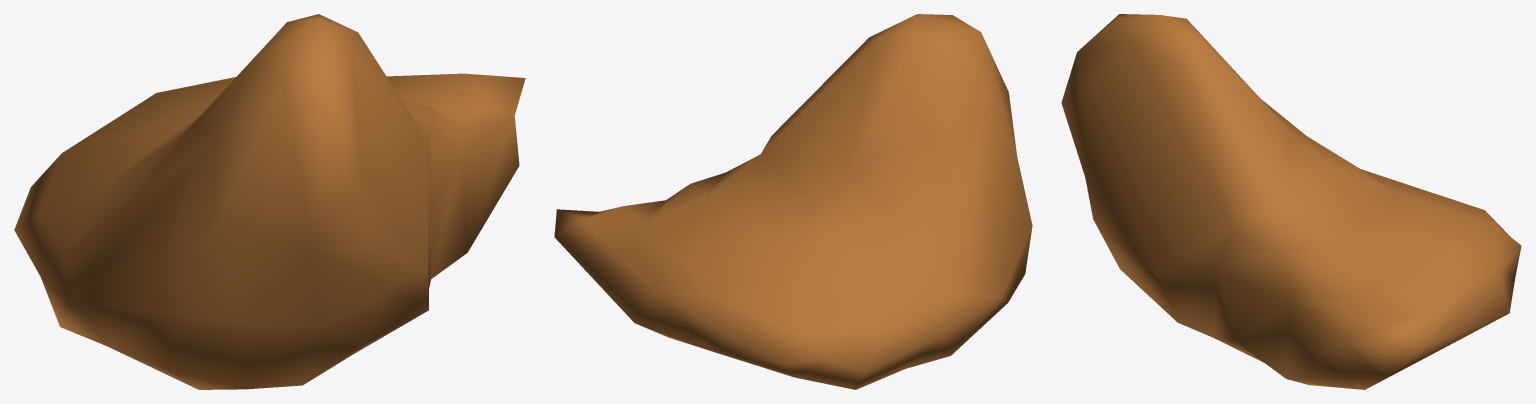
The model's file is SoftRock_27.fbx.
The picture shows the model from 3 angles, left to right: view 1: azimuth 30°, elevation 25°; view 2: azimuth 150°, elevation 25°; view 3: azimuth 270°, elevation 25°; orthographic projection. The views are drawn at different scales.
Visible parts, largest first — view 1: SoftRock_27; view 2: SoftRock_27; view 3: SoftRock_27.
Boxes of the visible parts, left/top/right/bottom form: SoftRock_27: left=14, top=14, right=525, bottom=389; SoftRock_27: left=554, top=14, right=1032, bottom=389; SoftRock_27: left=1061, top=14, right=1521, bottom=389.
Size of the model in its own units: 101 by 68.66 by 95.89.
